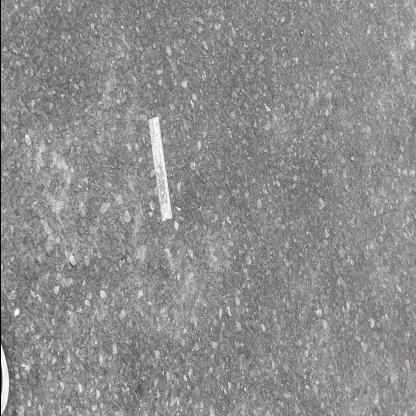plastik: (195, 148, 301, 172)
